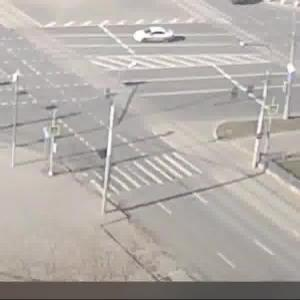car: (129, 23, 180, 46), (137, 28, 181, 46)
